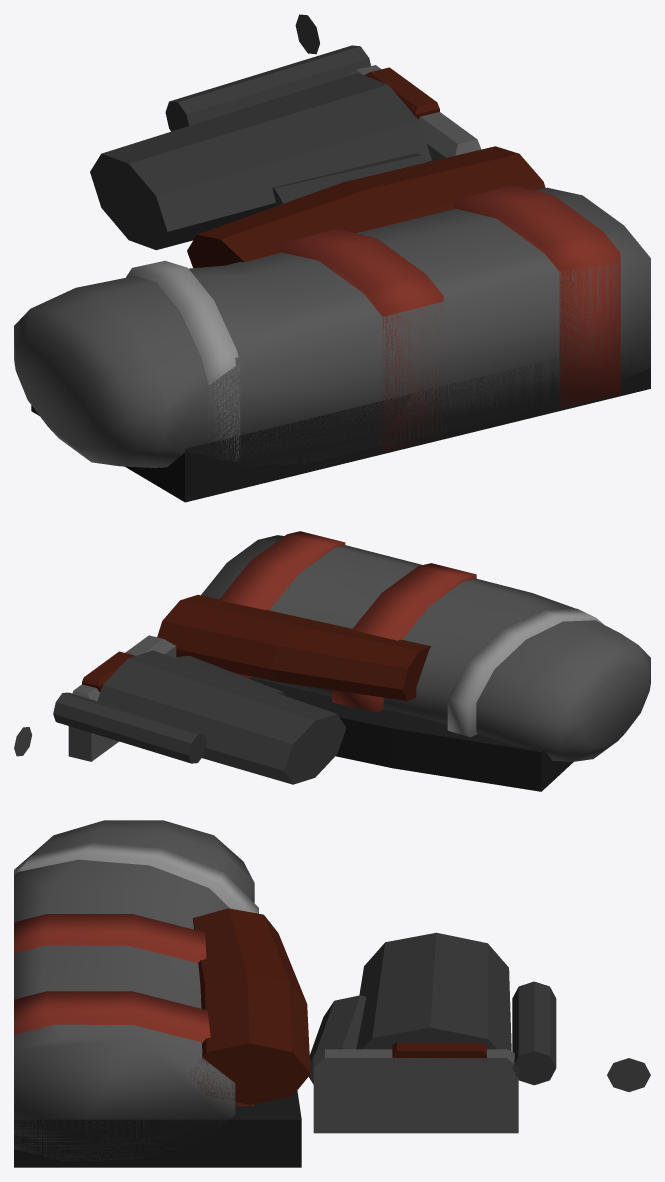
Rendered from newsh-caret-83.glb.
The picture shows the model from 3 angles, top to bottom: view 1: azimuth 30°, elevation 25°; view 2: azimuth 150°, elevation 25°; view 3: azimuth 270°, elevation 25°; orthographic projection. The views are drawn at different scales.
Parts seen in each view (by area): view 1: newsh-caret-83; view 2: newsh-caret-83; view 3: newsh-caret-83.
Part boxes in pixels (left/top/right/bottom): newsh-caret-83: left=14, top=14, right=650, bottom=502; newsh-caret-83: left=14, top=531, right=650, bottom=791; newsh-caret-83: left=14, top=820, right=650, bottom=1167.
Size of the model in its own units: 1.43 by 0.4253 by 1.68.
